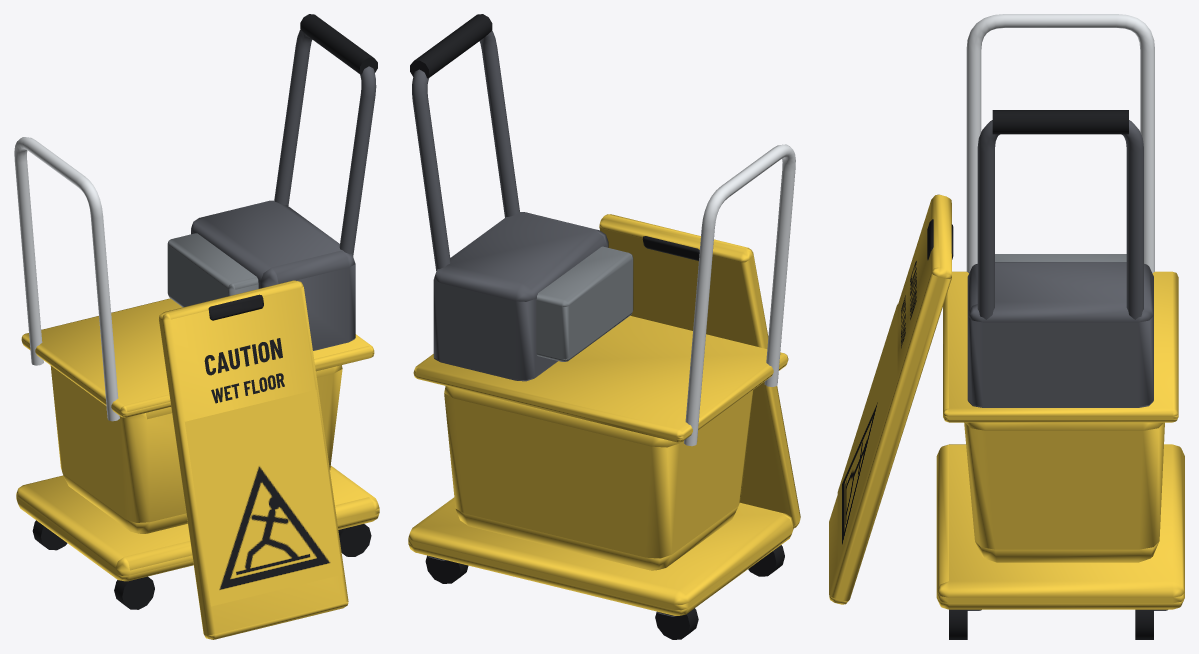
File: mop_bucket.glb
The picture shows the model from 3 angles, left to right: view 1: azimuth 30°, elevation 25°; view 2: azimuth 150°, elevation 25°; view 3: azimuth 270°, elevation 25°; orthographic projection. The views are drawn at different scales.
Visible parts, largest first — view 1: MopBucketMesh; view 2: MopBucketMesh; view 3: MopBucketMesh.
Boxes of the visible parts, box(x1,y1,x2,y2) form: MopBucketMesh: box(14, 14, 379, 639); MopBucketMesh: box(408, 14, 800, 639); MopBucketMesh: box(829, 14, 1184, 639).
Size of the model in its own units: 0.631 by 0.9715 by 0.5735.
8 materials, 1 textured.
